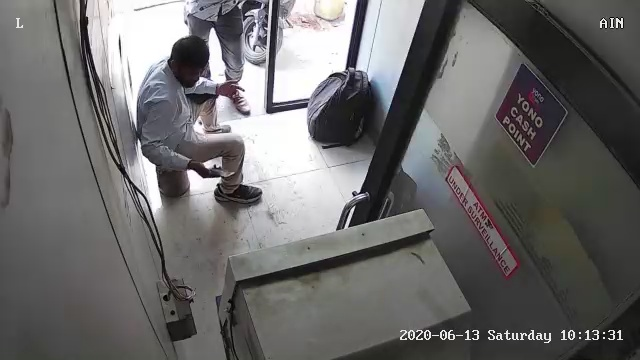open: (155, 5, 401, 119)
